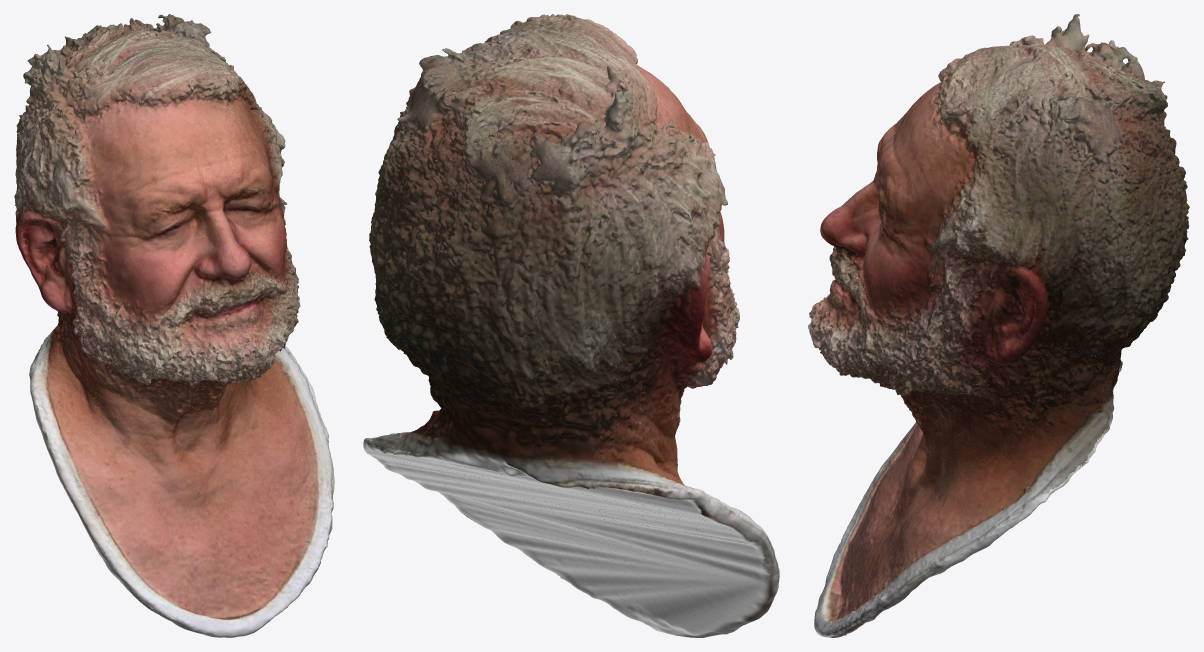
File: 真人头像_男_白须闭目老人01_opt.glb
3 renders of one model, left to right at view 1: azimuth 30°, elevation 25°; view 2: azimuth 150°, elevation 25°; view 3: azimuth 270°, elevation 25°, orthographic. The views are drawn at different scales.
Parts seen in each view (by area): view 1: material_0_7, material_0_9, material_0_11, material_0_3, material_0_1, material_0_6, material_0_8, material_0_10, material_0_5, material_0_13, material_0_2, material_0; view 2: material_0_1, material_0_3, material_0_13, material_0_7, material_0_11, material_0_5, material_0_15, material_0, material_0_2, material_0_12, material_0_10, material_0_9 (+3 smaller); view 3: material_0_5, material_0_9, material_0_11, material_0_3, material_0_1, material_0_7, material_0_13, material_0_4, material_0_8, material_0_15, material_0_10, material_0_2 (+1 smaller).
Boxes of the visible parts, bbox=[...] form: material_0_7: bbox=[34, 50, 324, 611]; material_0_9: bbox=[103, 41, 309, 637]; material_0_11: bbox=[113, 239, 334, 636]; material_0_3: bbox=[14, 14, 253, 619]; material_0_1: bbox=[16, 28, 267, 636]; material_0_6: bbox=[35, 52, 323, 636]; material_0_8: bbox=[108, 42, 309, 636]; material_0_10: bbox=[177, 243, 333, 634]; material_0_5: bbox=[29, 98, 319, 628]; material_0_13: bbox=[50, 324, 330, 637]; material_0_2: bbox=[14, 15, 257, 619]; material_0: bbox=[16, 30, 267, 636]; material_0_1: bbox=[363, 50, 777, 637]; material_0_3: bbox=[382, 35, 756, 635]; material_0_13: bbox=[365, 229, 772, 637]; material_0_7: bbox=[364, 26, 779, 622]; material_0_11: bbox=[363, 159, 772, 637]; material_0_5: bbox=[368, 106, 769, 635]; material_0_15: bbox=[376, 225, 705, 637]; material_0: bbox=[363, 54, 776, 637]; material_0_2: bbox=[379, 36, 771, 634]; material_0_12: bbox=[367, 231, 773, 636]; material_0_10: bbox=[368, 232, 771, 636]; material_0_9: bbox=[394, 14, 774, 637]; material_0_5: bbox=[819, 138, 1185, 627]; material_0_9: bbox=[810, 50, 1186, 637]; material_0_11: bbox=[808, 185, 1188, 636]; material_0_3: bbox=[825, 54, 1177, 619]; material_0_1: bbox=[814, 14, 1187, 637]; material_0_7: bbox=[809, 36, 1162, 627]; material_0_13: bbox=[819, 184, 1189, 635]; material_0_4: bbox=[822, 146, 1182, 618]; material_0_8: bbox=[814, 52, 1184, 636]; material_0_15: bbox=[815, 184, 1188, 625]; material_0_10: bbox=[810, 190, 1188, 636]; material_0_2: bbox=[820, 56, 1176, 619].
Size of the model in its own units: 0.1636 by 0.3 by 0.1802.
Materials: 1 (1 with a texture image).
